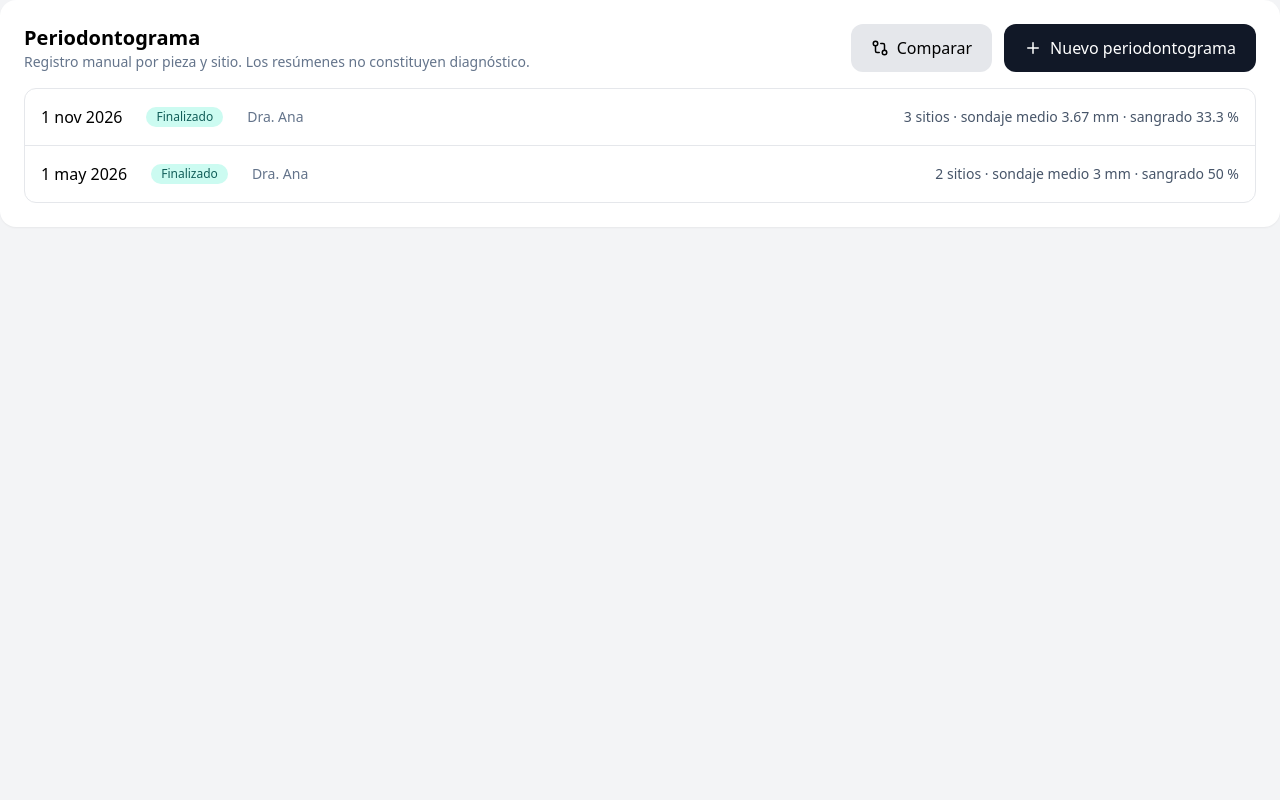
Scenario: vista de comparación › compara los dos exámenes más recientes y resalta los cambios
Click the button "Comparar" at (921, 48), box [851, 24, 992, 72]
(page scrolled)
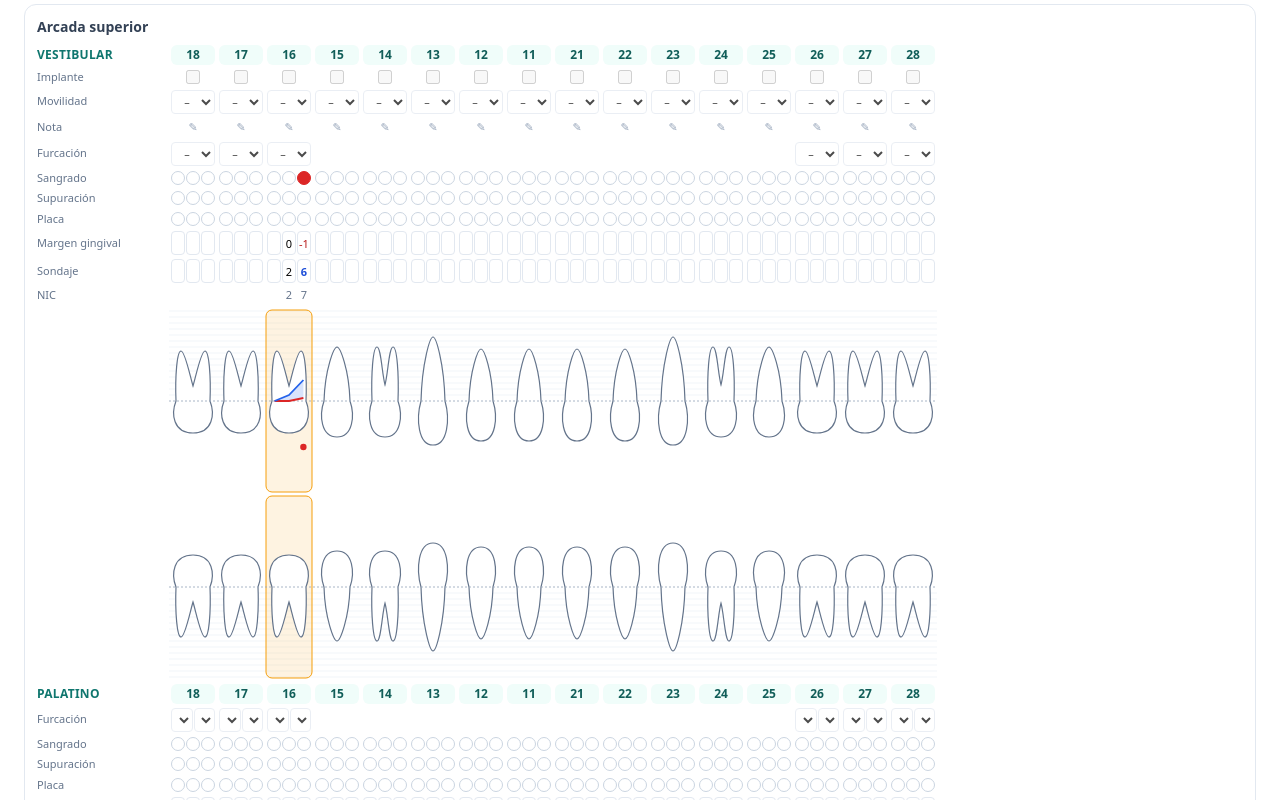
Check: the picture named "cara vestibular de la arcada superior; piezas resaltadas: 16" is shown, box [169, 308, 937, 494]
